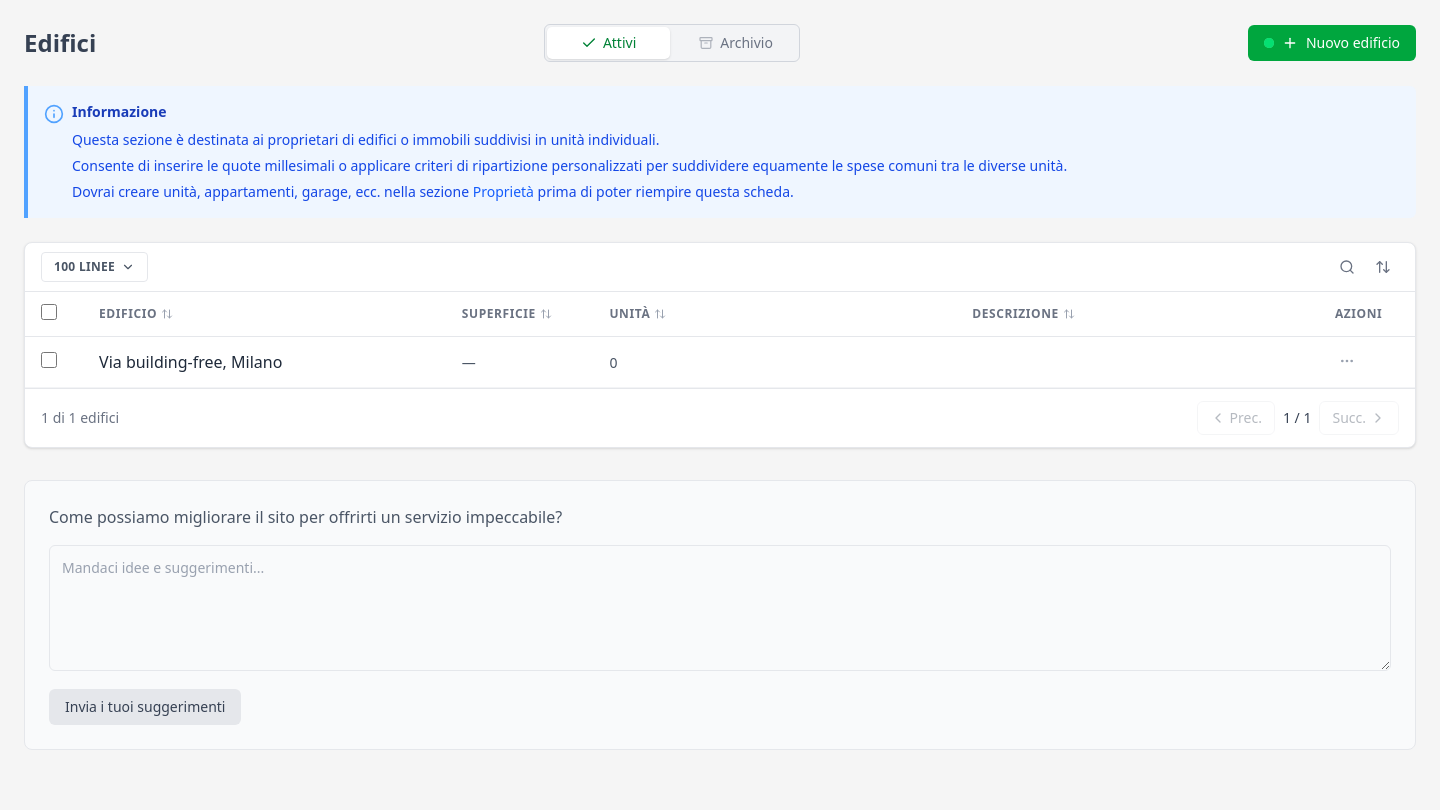
Test: A5.2 building lifecycle actions › A5.2-03 deletes a free row and reports success
The width and height of the screenshot is (1440, 810).
Click the button named "Azioni edificio Via building-free, Milano".
click(1347, 361)  # box [1335,349,1359,373]
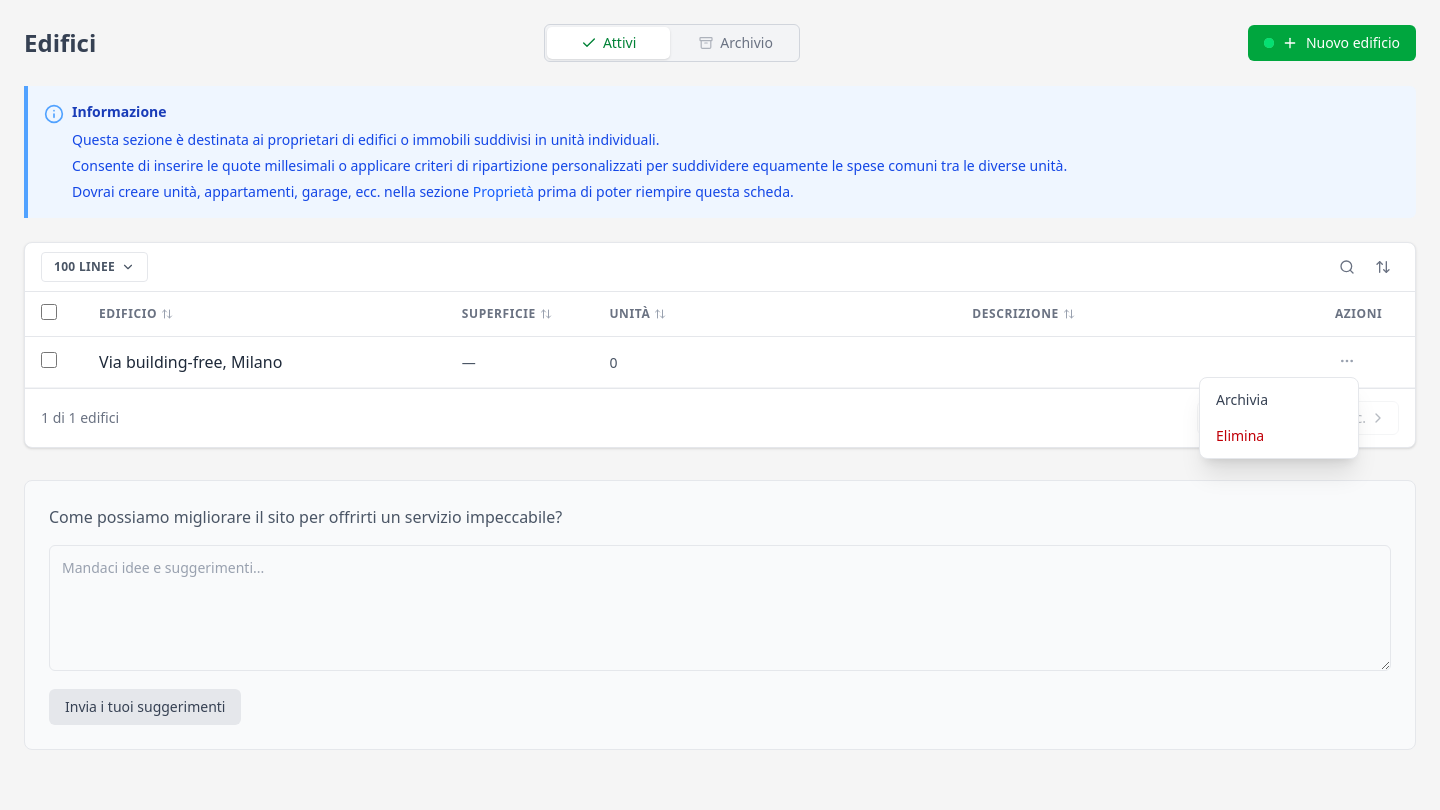
Click the menu item "Elimina".
click(1279, 436)  # box [1200,418,1358,454]
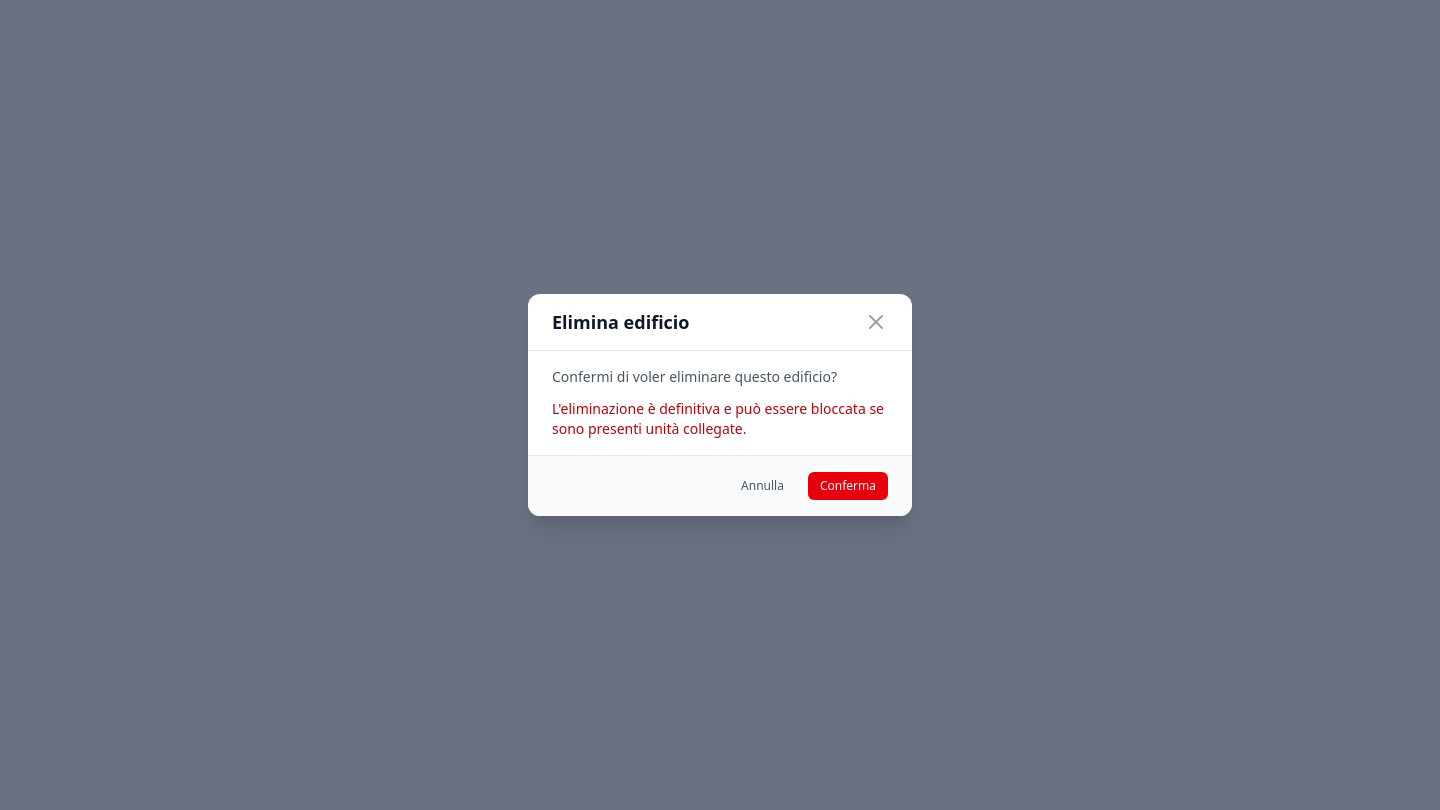
Expected: the text "eliminazione è definitiva" is shown, [552,399,884,438]
Click the button "Conferma".
click(848, 486)  # box [808,472,888,500]
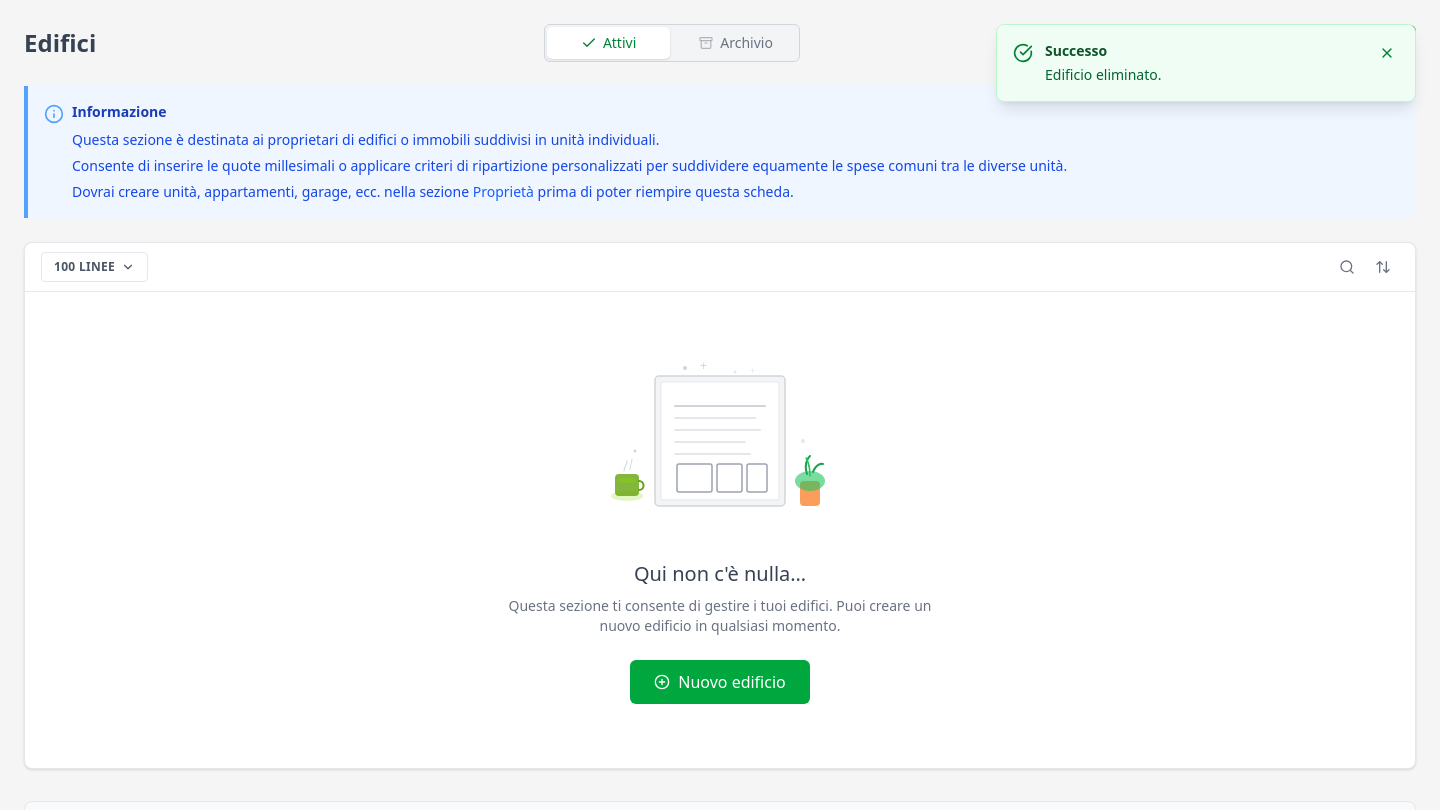
Expected: the message shows "Edificio eliminato.", [1045,65,1162,84]
